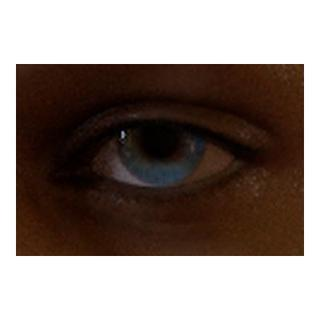pupil: (143, 123, 177, 157)
